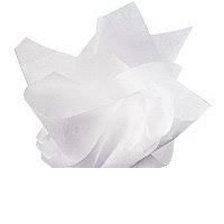tissue: (11, 0, 215, 167)
